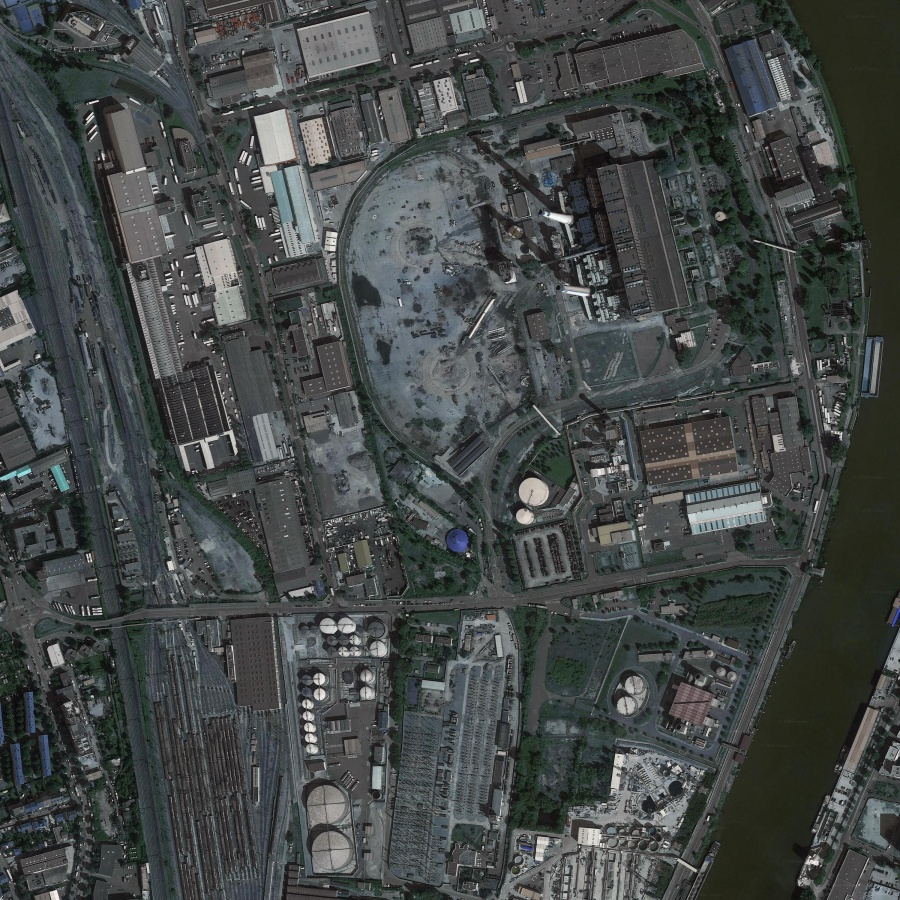PowerPlant: (466, 124, 671, 524)
